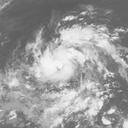cyclone: (29, 40, 87, 88)
